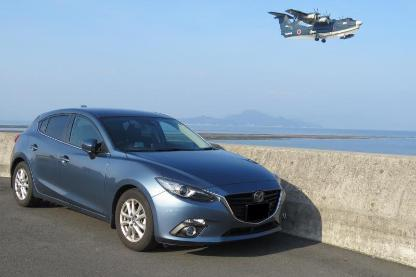Tu95: (266, 7, 362, 42)
